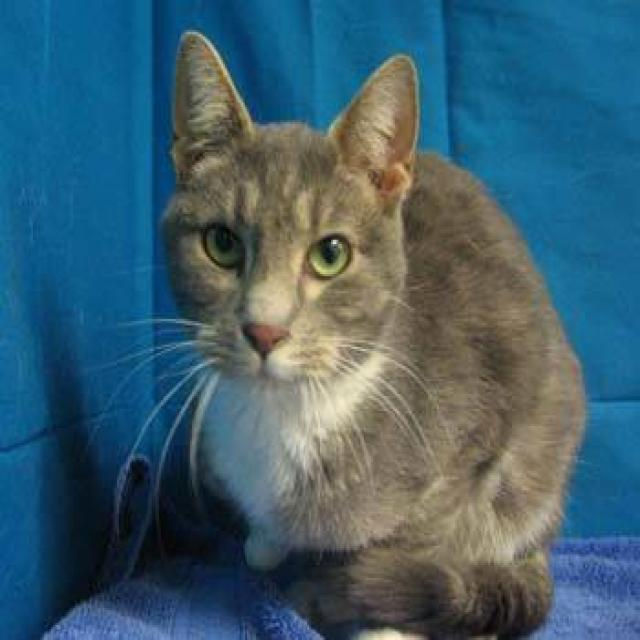cat: (88, 28, 587, 638)
